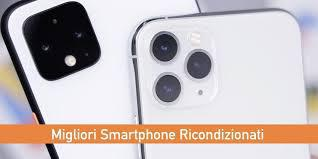Smartphone: (1, 1, 216, 159), (132, 3, 304, 159)
